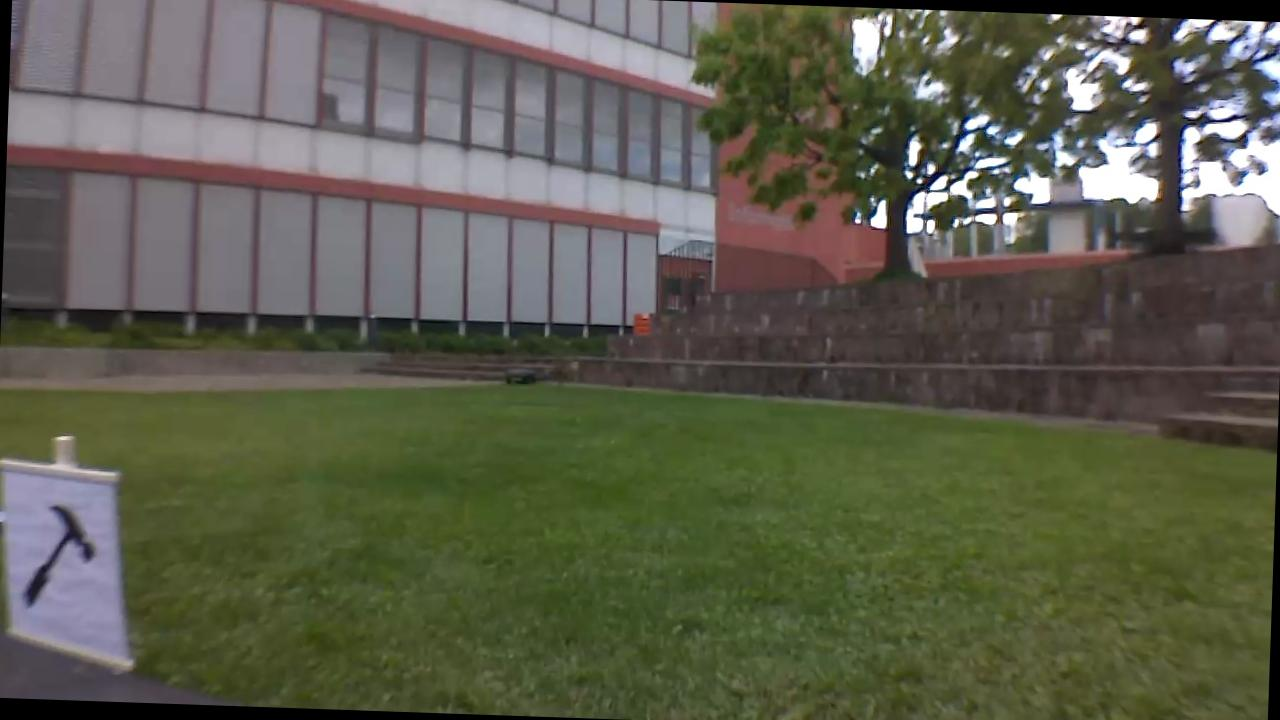hammer: (10, 490, 111, 628)
